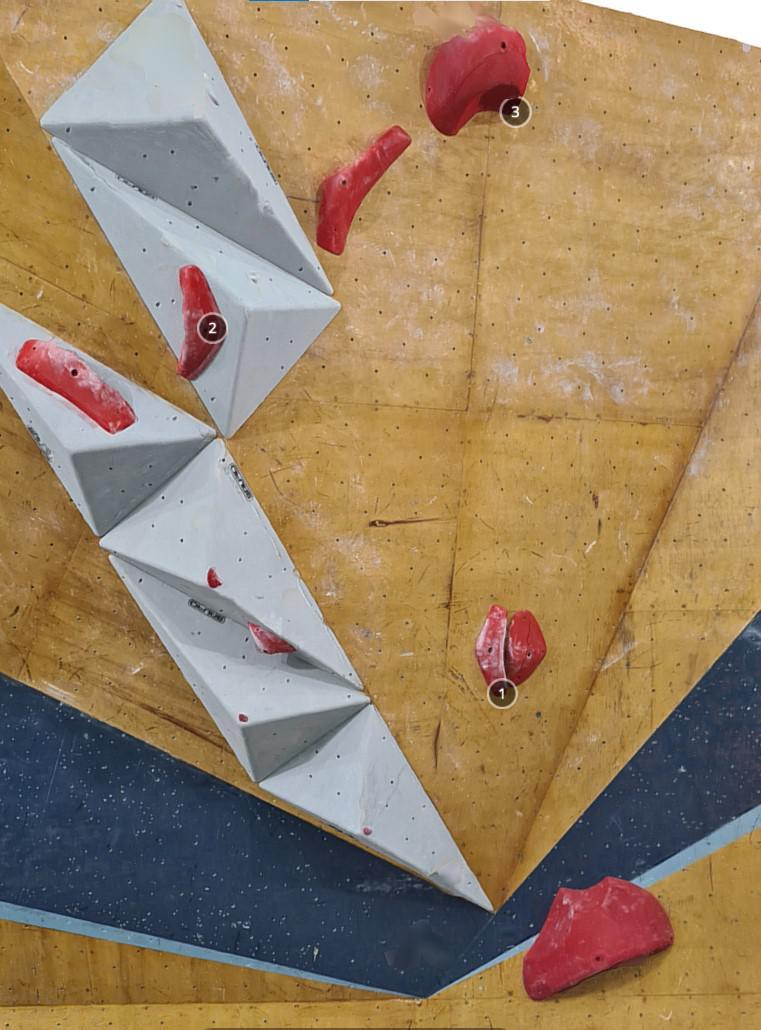hold: (523, 876, 675, 1001), (425, 14, 532, 136), (316, 124, 411, 255), (16, 339, 136, 434), (176, 264, 227, 380), (504, 609, 546, 687), (474, 604, 507, 697), (248, 620, 296, 655), (207, 567, 223, 587), (363, 827, 372, 836), (239, 713, 248, 722)
volume: (51, 136, 342, 440), (39, 0, 335, 296), (99, 437, 364, 691), (108, 555, 371, 784), (0, 301, 217, 537), (258, 704, 495, 913)
